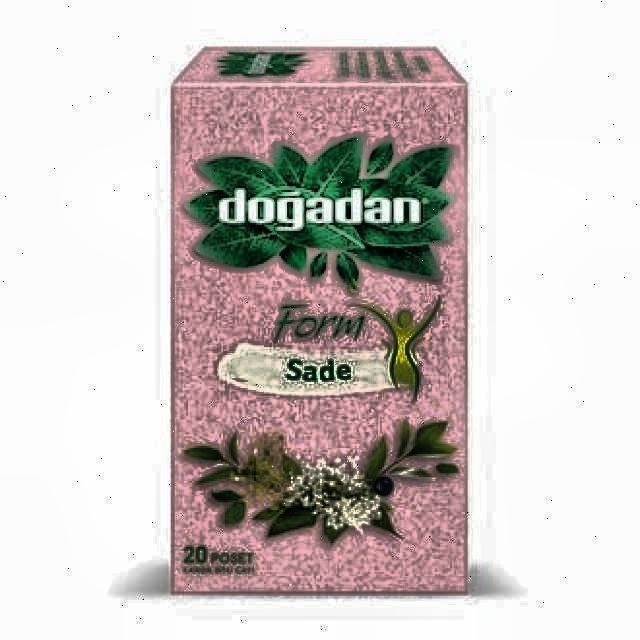cardboard: (168, 45, 473, 598)
